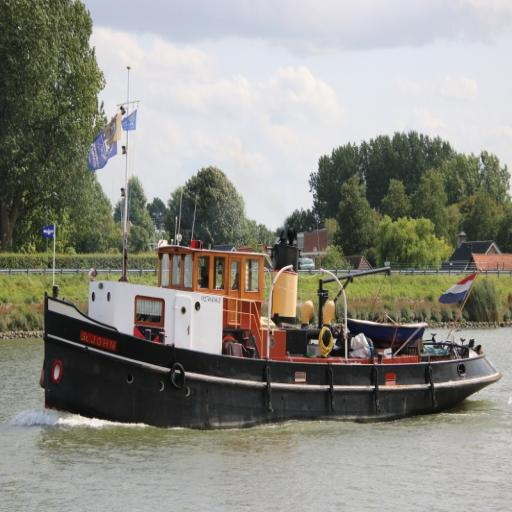tugboat: (38, 218, 505, 441)
